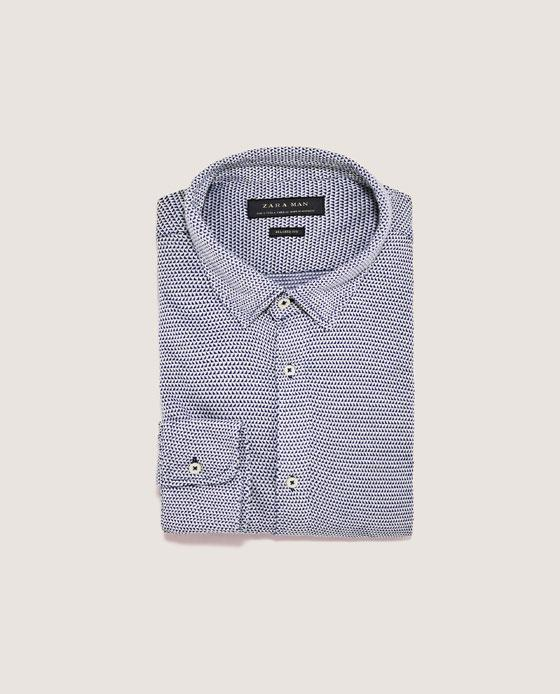teeshirt: (142, 146, 430, 549)
